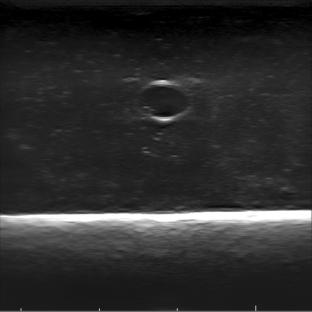vessel: (136, 78, 191, 121)
